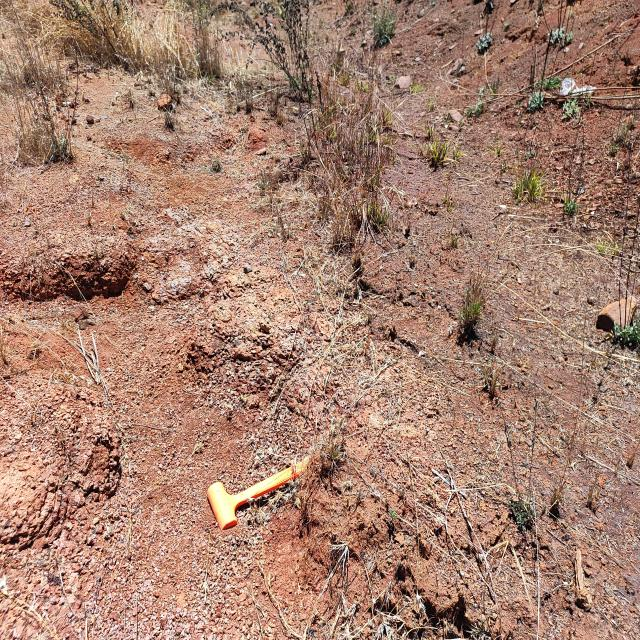Orange_hammer: (206, 454, 310, 531)
